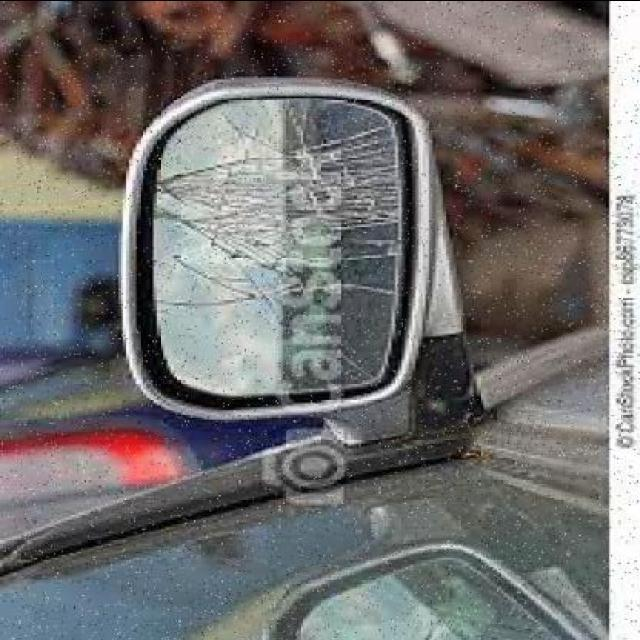Sidemirror-Damage: (113, 69, 440, 429)
